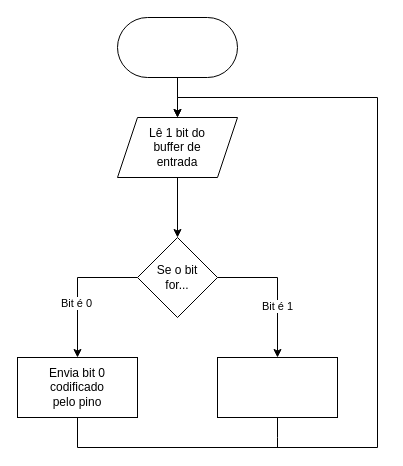
This 403x466 diagram has some shape labels left out. The shapes that lost their labels are listed below. From the top down, each one's centre as x and y in pixels, then its label:
At (x=177, y=47): "Início".
At (x=277, y=387): "Envia bit 1 codificado pelo pino".
